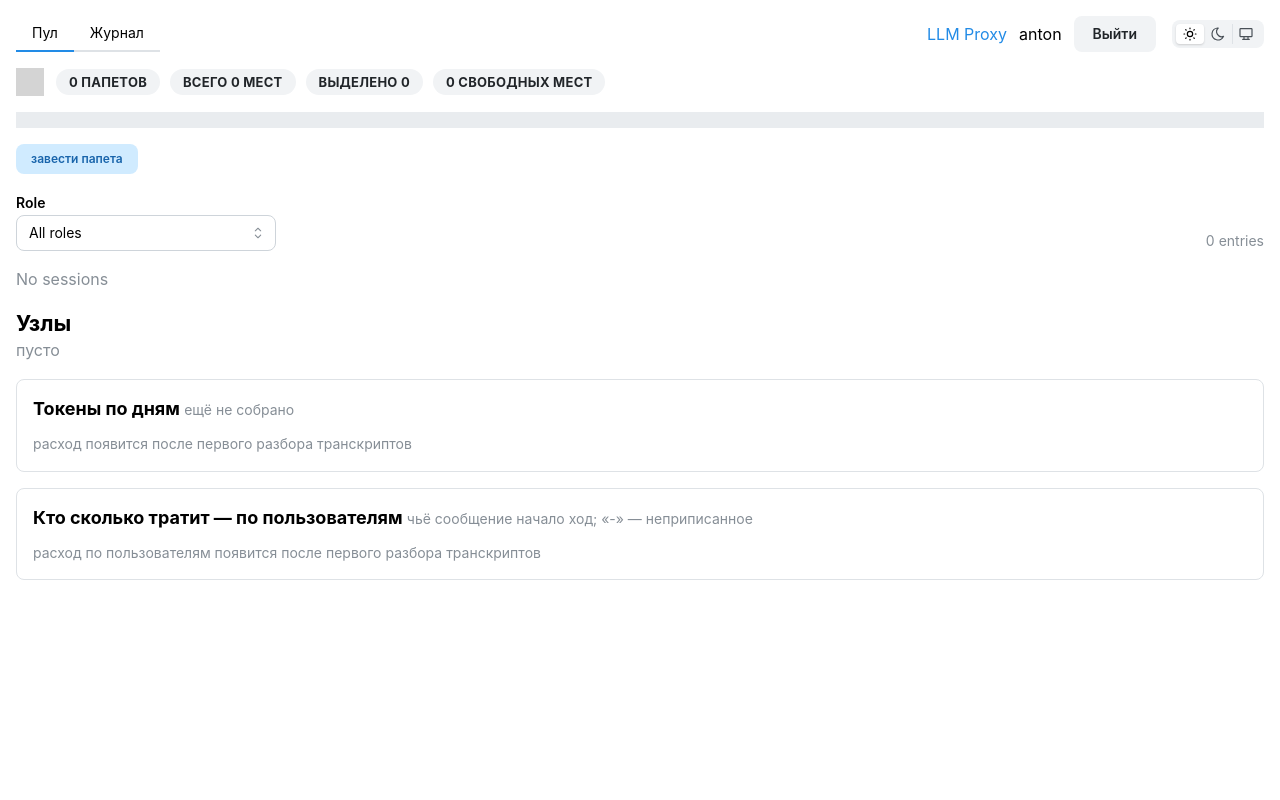
Test: #422 back from the journal returns to the main page
Click the tab "Журнал" at point(117, 34), box [74,16,160,52]
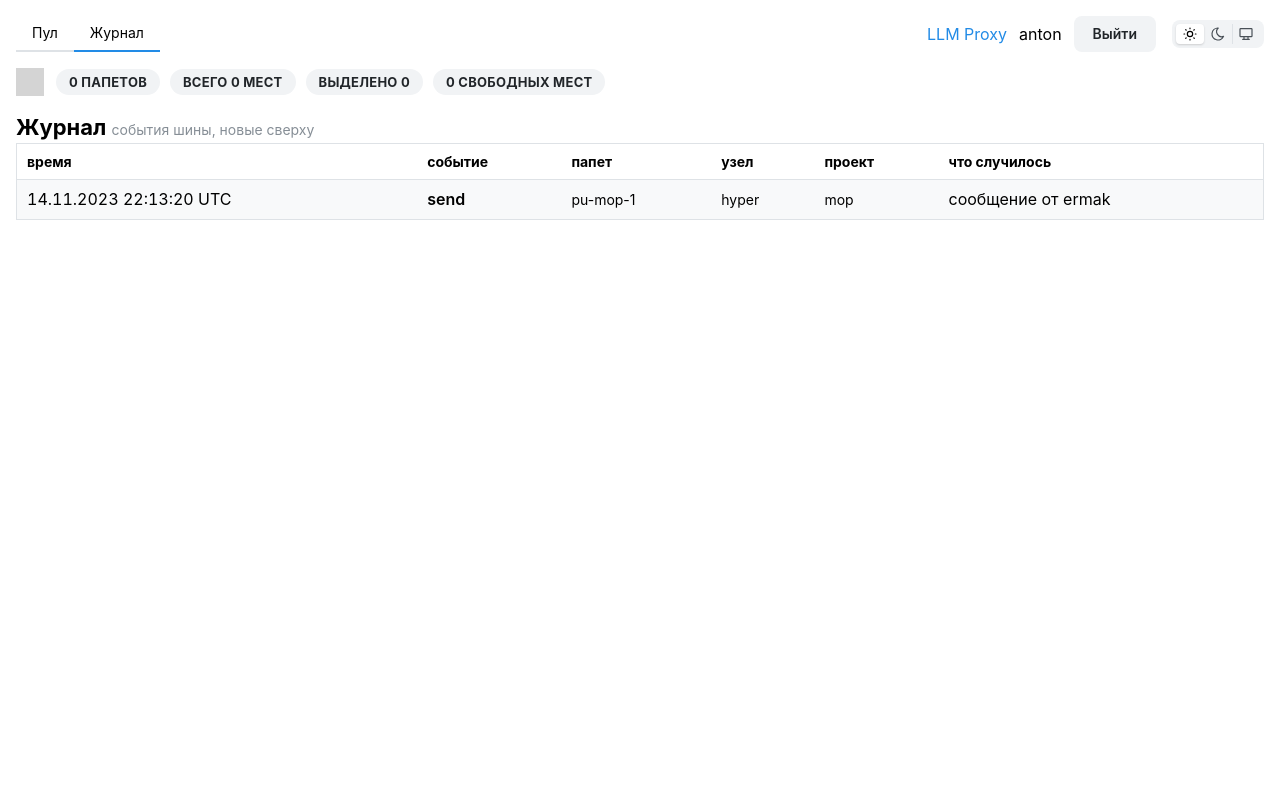
Click the tab "Пул" at point(45, 34), box [16,16,74,52]
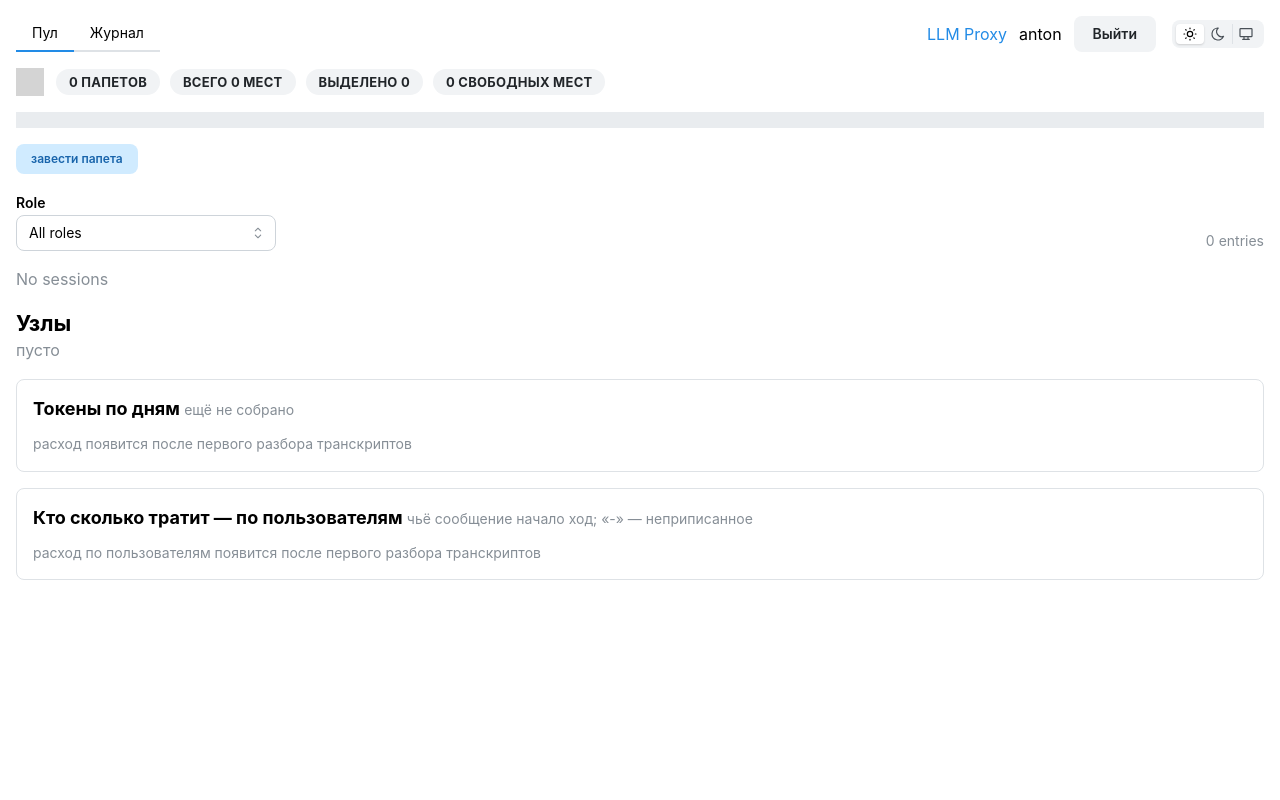
expect the element with test id "journal-page" is gone: met
expect the text "No sessions" is shown: met, box [16,269,108,289]
